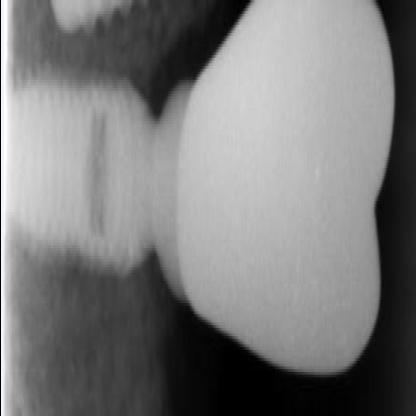Bicon: (3, 31, 170, 327)
